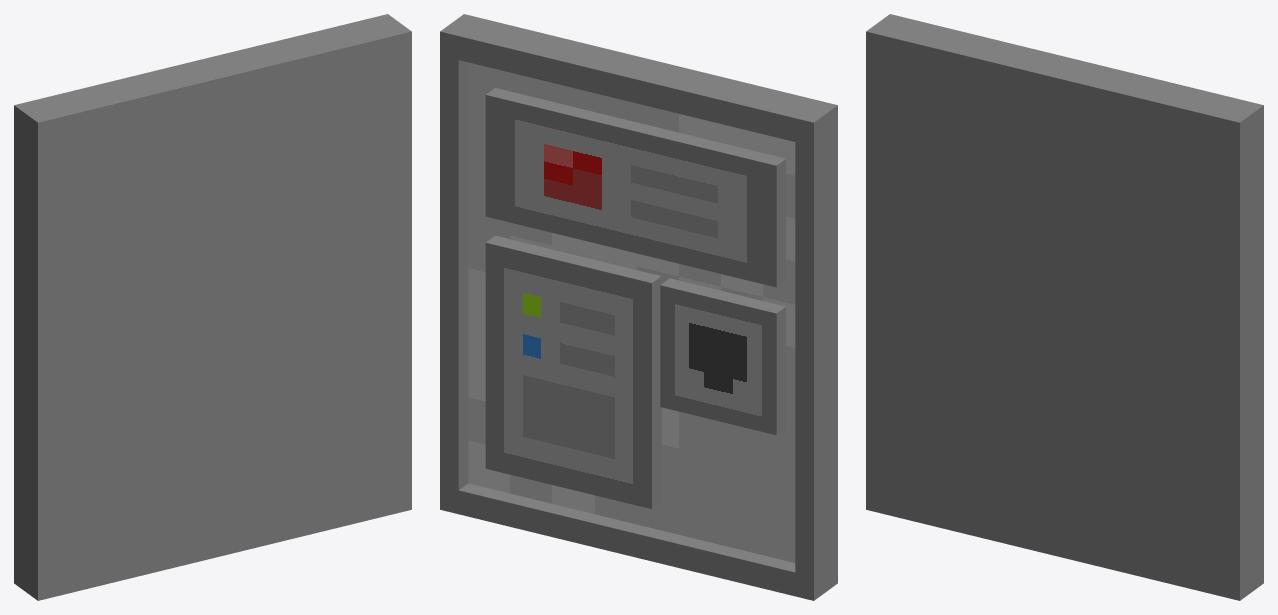
3 renders of one model, left to right at view 1: azimuth 30°, elevation 25°; view 2: azimuth 150°, elevation 25°; view 3: azimuth 330°, elevation 25°, orthographic.
Visible parts, largest first — view 1: cuboid; view 2: cuboid, cuboid_1, cuboid_3, cuboid_2; view 3: cuboid.
Boxes of the visible parts, x1,y1,x2,y2 form: cuboid: (14, 14, 411, 600); cuboid: (440, 14, 837, 600); cuboid_1: (485, 235, 661, 509); cuboid_3: (485, 88, 785, 287); cuboid_2: (660, 278, 785, 435); cuboid: (866, 14, 1263, 600).
Size of the model in its own units: 56.25 by 68.75 by 6.25.
1 material, 1 textured.
